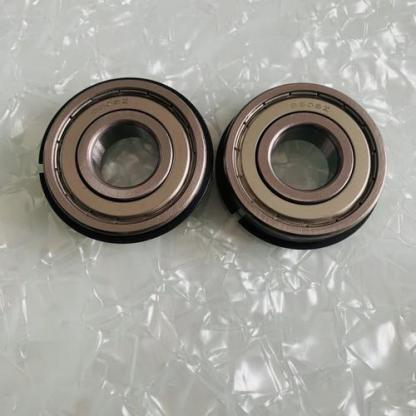FOD: (34, 76, 211, 244), (216, 78, 388, 250)
